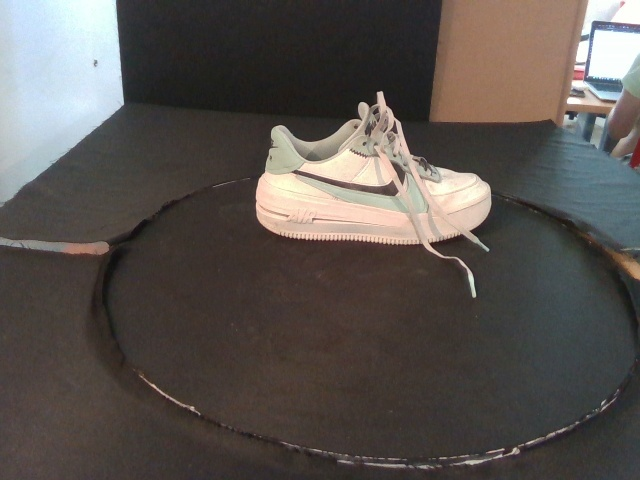shoe: (255, 101, 492, 246)
